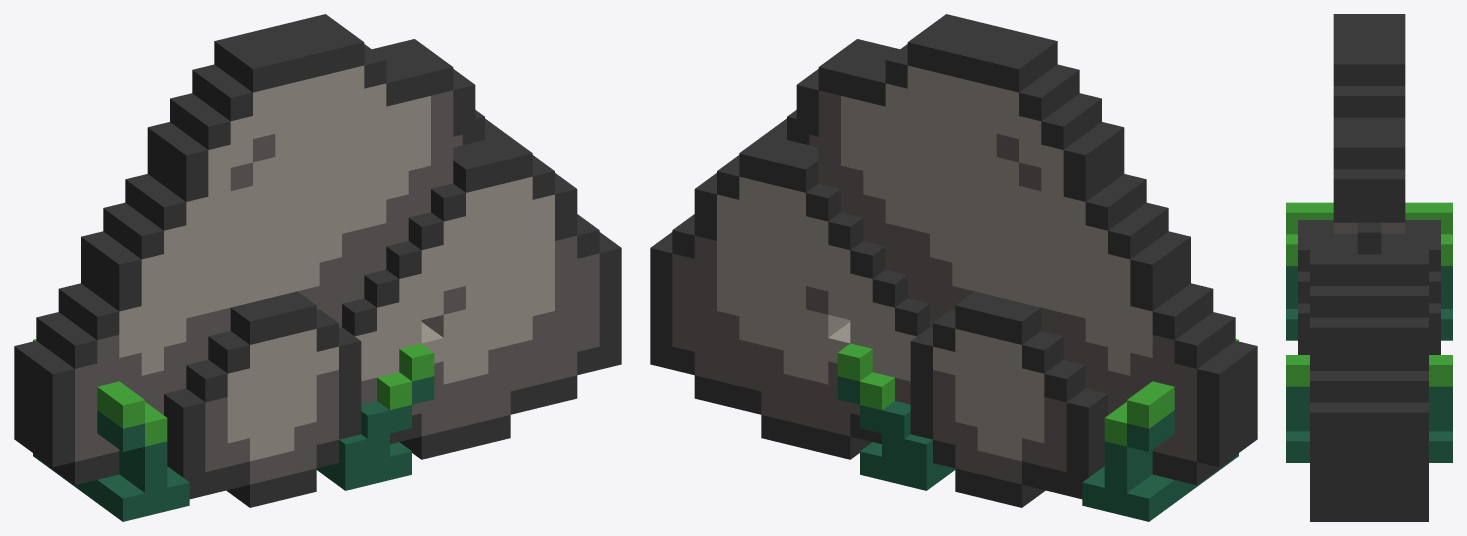
File: Rocks.fbx
3 views of the same model, side by side, from view 1: azimuth 30°, elevation 25°; view 2: azimuth 150°, elevation 25°; view 3: azimuth 270°, elevation 25° (orthographic). The views are drawn at different scales.
Parts seen in each view (by area): view 1: generated; view 2: generated; view 3: generated.
Boxes of the visible parts, <box> form: generated: <box>14,14,621,521</box>; generated: <box>650,14,1257,521</box>; generated: <box>1286,14,1452,521</box>.
Size of the model in its own units: 12.5 by 9 by 3.5.
